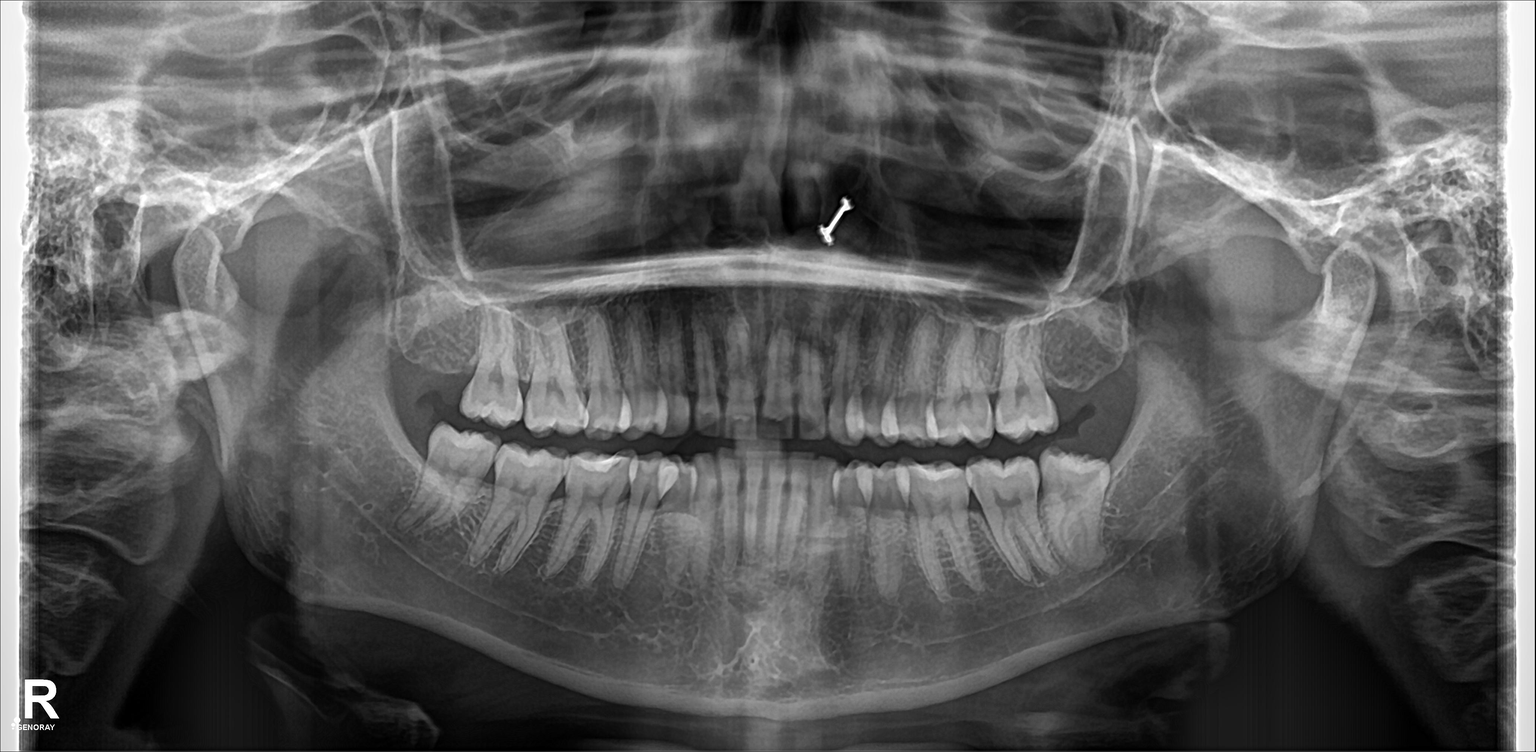Missing Tooth: (1046, 313, 1107, 422), (423, 315, 471, 408), (380, 315, 426, 396)
